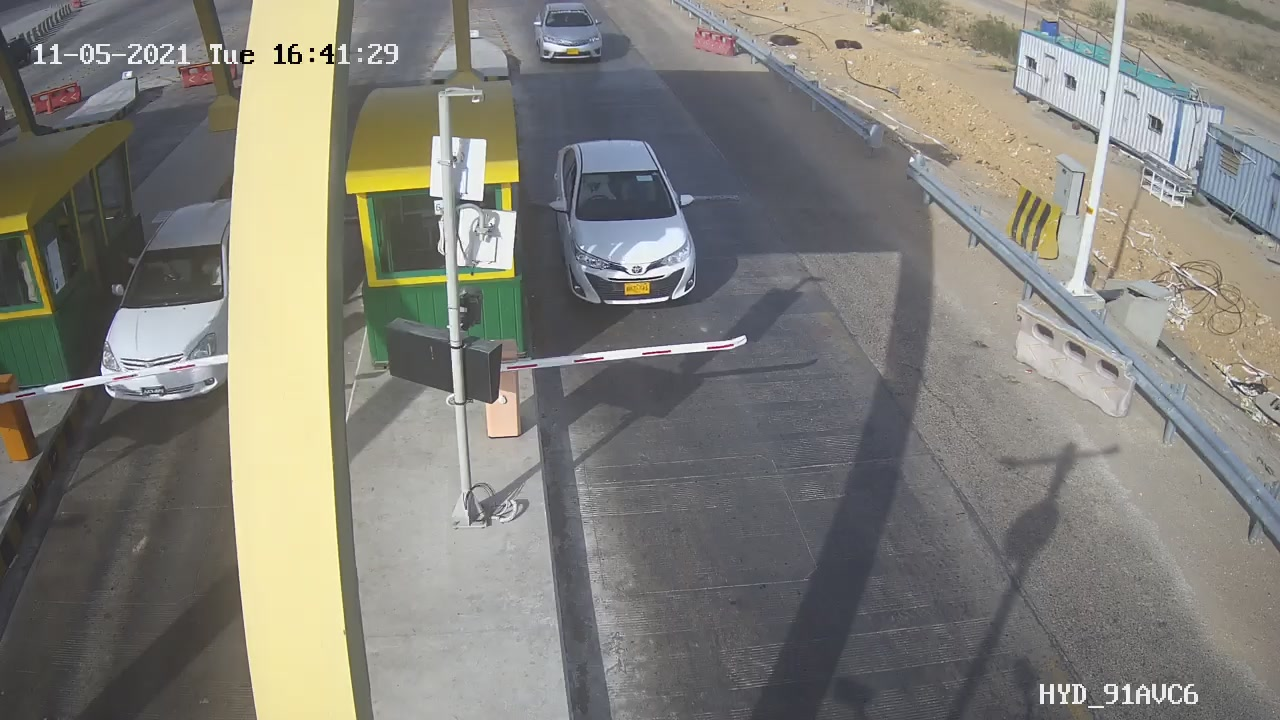F1: (531, 124, 725, 327)
